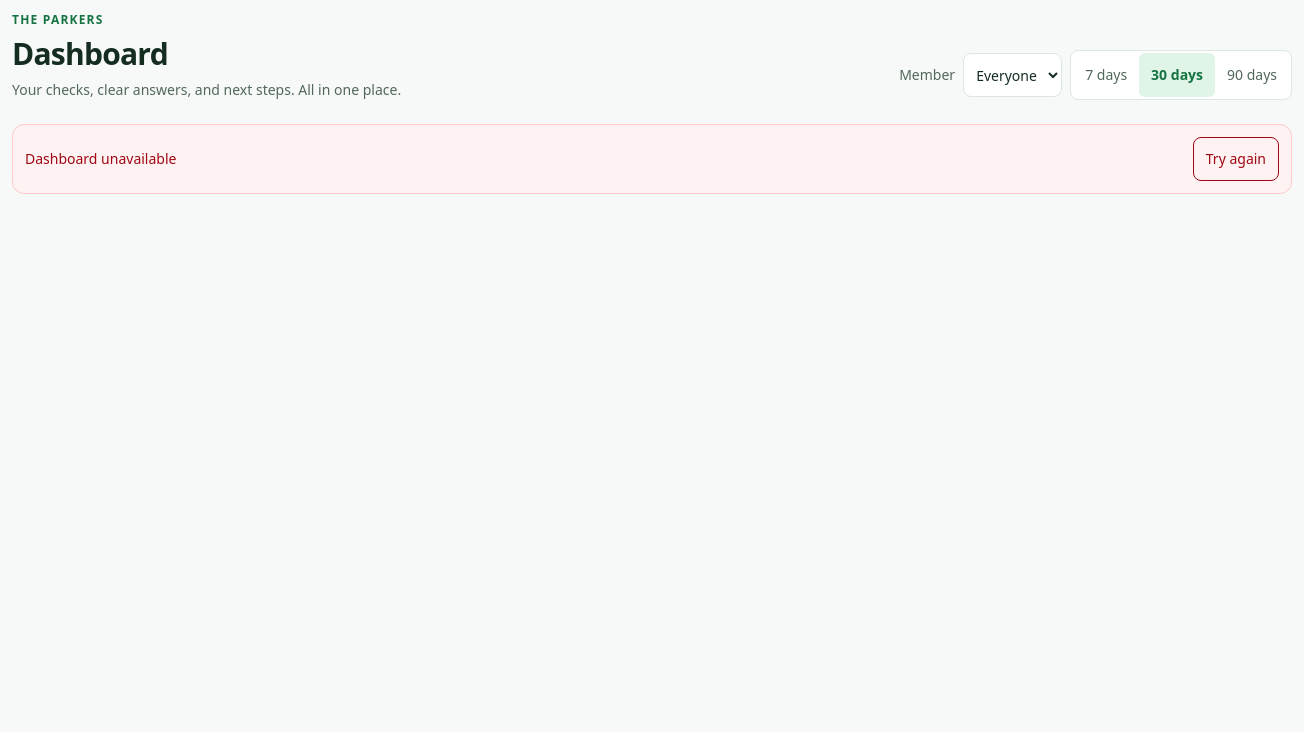
Test case: Dashboard › offers a retry when dashboard data fails to load
Expected: the message shows "Dashboard unavailable", left=25, top=149, right=176, bottom=168
Click the button "Try again".
click(1236, 159)  # box left=1193, top=137, right=1279, bottom=181
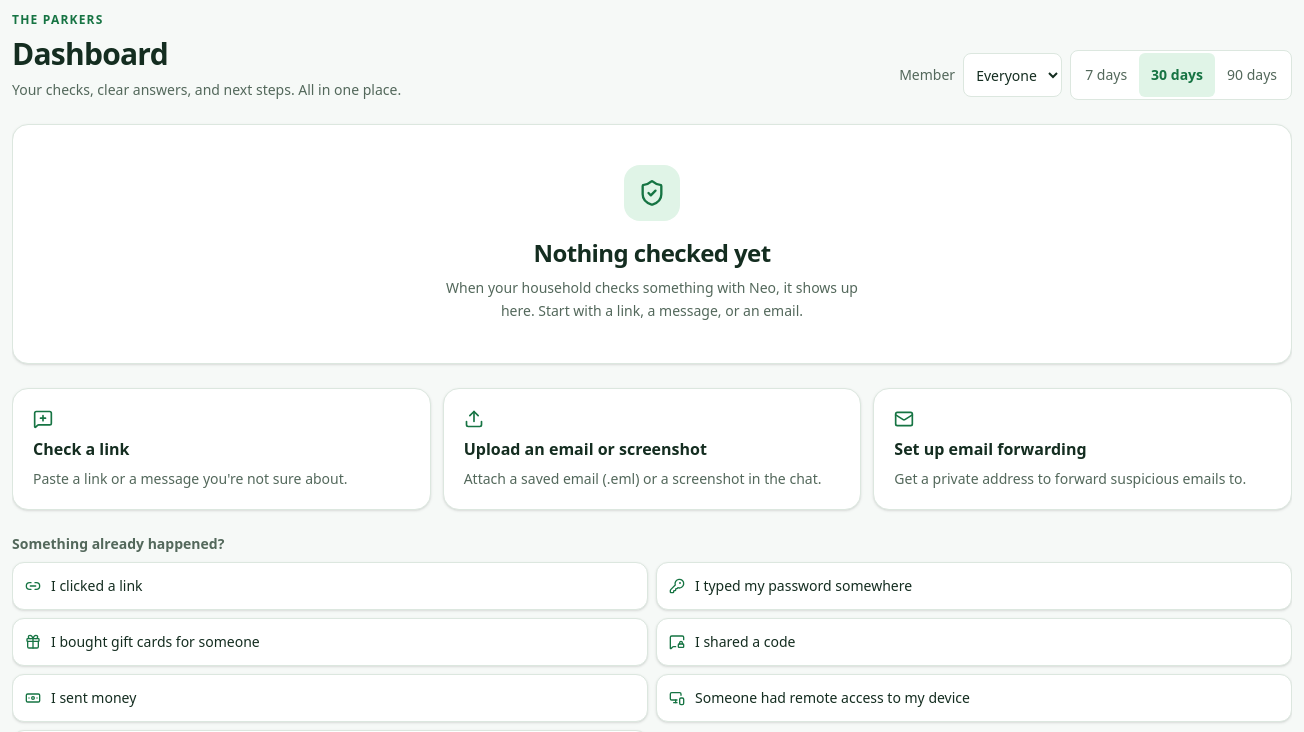
Expected: the heading "Nothing checked yet" is shown, left=534, top=237, right=771, bottom=269
